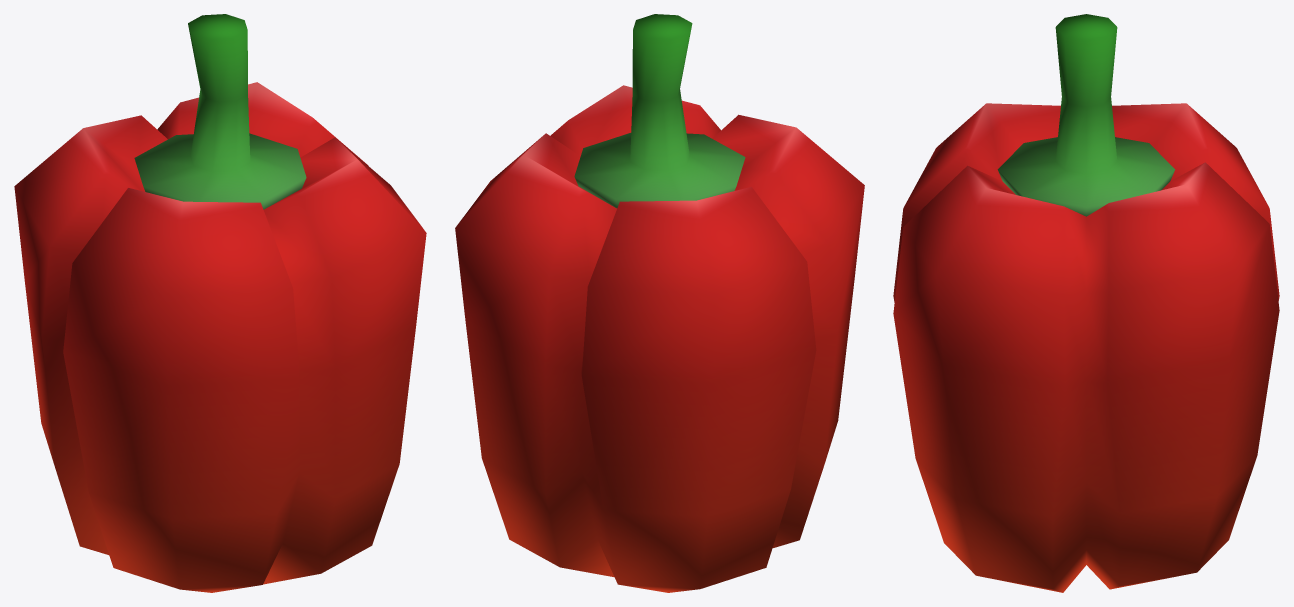
Rendered from Bellpepper.FBX.
The picture shows the model from 3 angles, left to right: view 1: azimuth 30°, elevation 25°; view 2: azimuth 150°, elevation 25°; view 3: azimuth 270°, elevation 25°; orthographic projection.
Visible parts, largest first — view 1: Bellpepper; view 2: Bellpepper; view 3: Bellpepper.
Boxes of the visible parts, x1,y1,x2,y2 form: Bellpepper: (14, 14, 426, 592); Bellpepper: (455, 14, 864, 592); Bellpepper: (893, 14, 1279, 592).
Size of the model in its own units: 8.56 by 13.58 by 8.56.
Materials: 1 (1 with a texture image).
